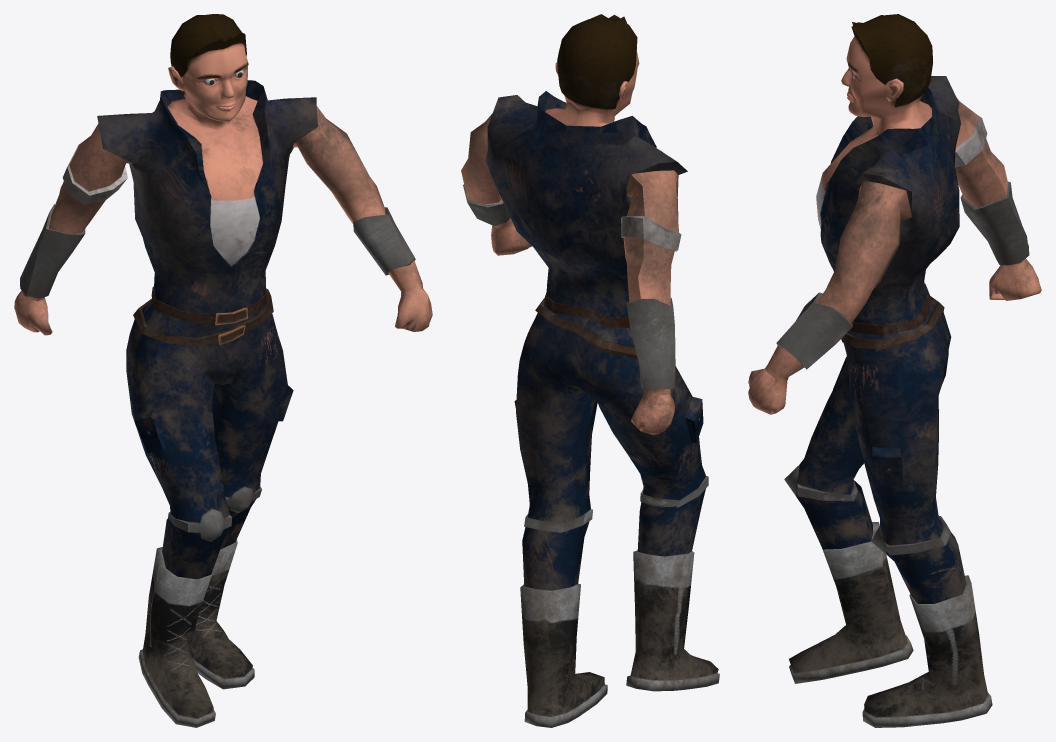
The model's file is Anim_andar_jugador.0022.obj.
3 renders of one model, left to right at view 1: azimuth 30°, elevation 25°; view 2: azimuth 150°, elevation 25°; view 3: azimuth 270°, elevation 25°, orthographic. The views are drawn at different scales.
Visible parts, largest first — view 1: Anim_andar_jugador; view 2: Anim_andar_jugador; view 3: Anim_andar_jugador.
Part boxes in pixels (x1,y1,x2,y2): Anim_andar_jugador: [14, 14, 432, 727]; Anim_andar_jugador: [461, 14, 719, 727]; Anim_andar_jugador: [748, 14, 1041, 727].
Bounding box in the file's own units: 4.45 × 9.63 × 3.71.
Materials: 2 (2 with a texture image).
